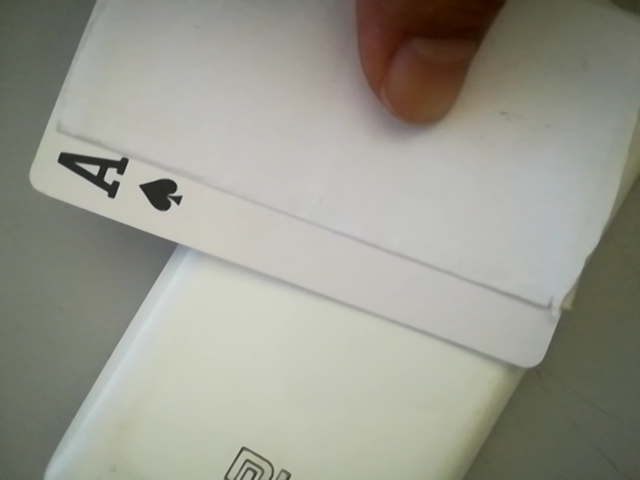ht a: (37, 135, 201, 227)
